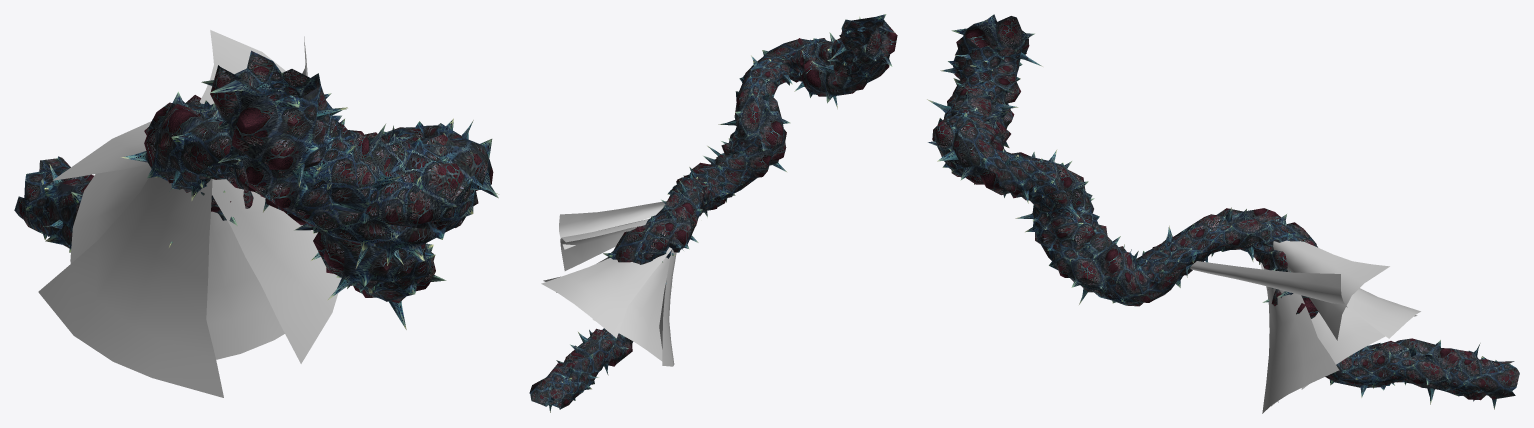
The model's file is L03_Heltree11.fbx.
3 renders of one model, left to right at view 1: azimuth 30°, elevation 25°; view 2: azimuth 150°, elevation 25°; view 3: azimuth 270°, elevation 25°, orthographic. The views are drawn at different scales.
Visible parts, largest first — view 1: LODGroup_2_MainMesh_1_SubMesh_1, LODGroup_2_MainMesh_2_SubMesh_2, LODGroup_2_MainMesh_2_SubMesh_1; view 2: LODGroup_2_MainMesh_2_SubMesh_1, LODGroup_2_MainMesh_1_SubMesh_1, LODGroup_2_MainMesh_2_SubMesh_2; view 3: LODGroup_2_MainMesh_2_SubMesh_1, LODGroup_2_MainMesh_2_SubMesh_2, LODGroup_2_MainMesh_1_SubMesh_1.
Boxes of the visible parts, bbox=[...] form: LODGroup_2_MainMesh_1_SubMesh_1: bbox=[38, 30, 341, 397]; LODGroup_2_MainMesh_2_SubMesh_2: bbox=[14, 50, 492, 303]; LODGroup_2_MainMesh_2_SubMesh_1: bbox=[39, 65, 499, 329]; LODGroup_2_MainMesh_2_SubMesh_1: bbox=[529, 16, 897, 412]; LODGroup_2_MainMesh_1_SubMesh_1: bbox=[541, 201, 676, 366]; LODGroup_2_MainMesh_2_SubMesh_2: bbox=[542, 14, 886, 409]; LODGroup_2_MainMesh_2_SubMesh_1: bbox=[927, 14, 1519, 409]; LODGroup_2_MainMesh_2_SubMesh_2: bbox=[930, 28, 1497, 396]; LODGroup_2_MainMesh_1_SubMesh_1: bbox=[1190, 240, 1420, 413].
Bounding box in the file's own units: 923 × 1143 × 1884.
